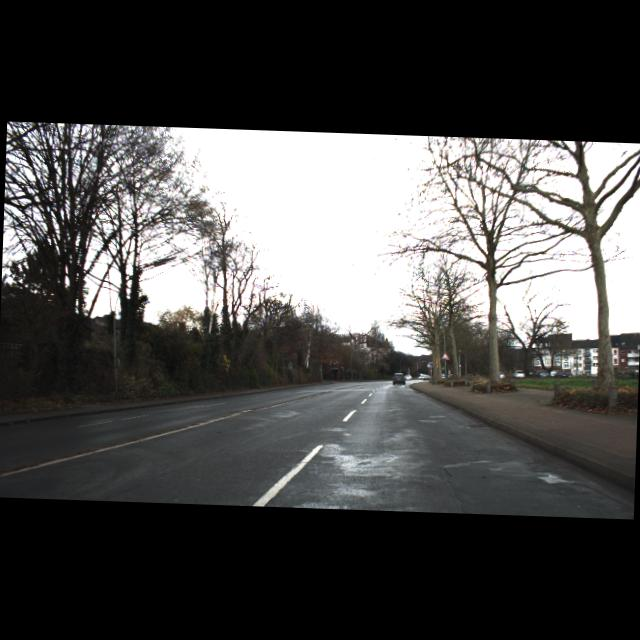danger: (440, 351, 450, 360)
